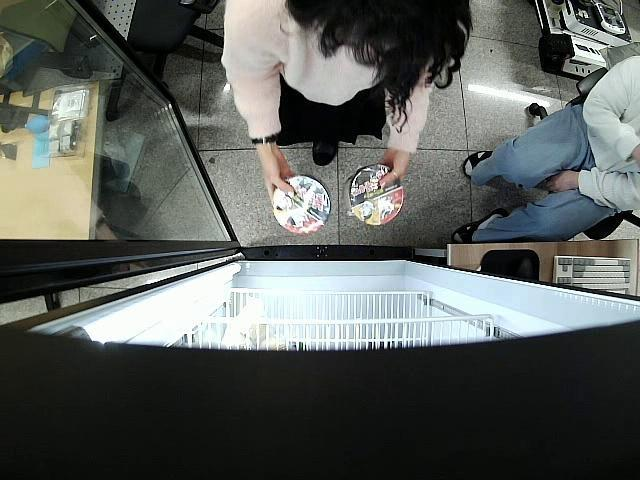07_buldak_L: (342, 164, 405, 226), (272, 172, 331, 234)
